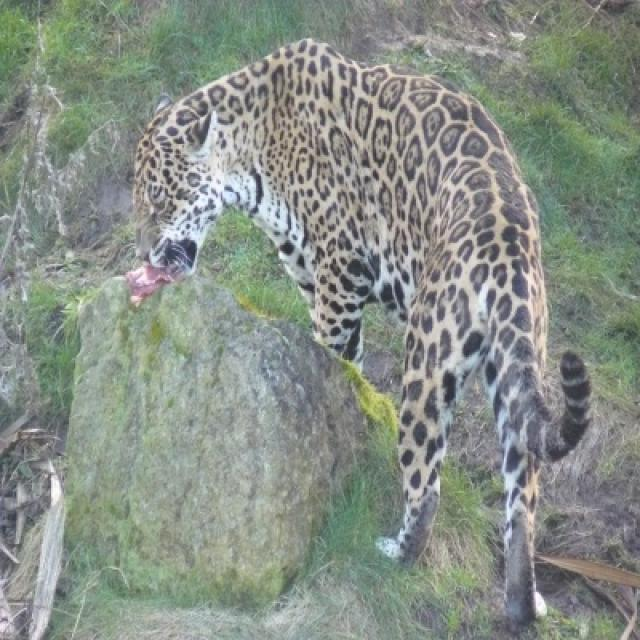Jaguar: (125, 38, 594, 638)
